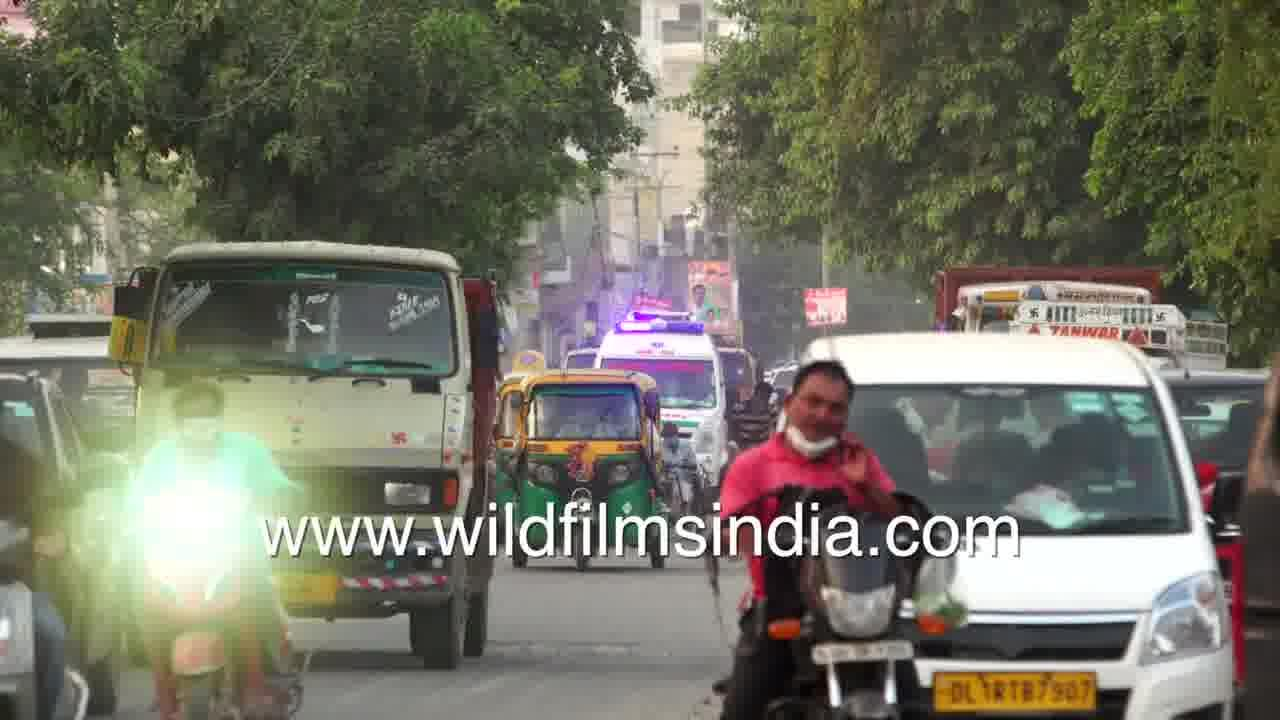AMBULANCE: (596, 293, 735, 373)
